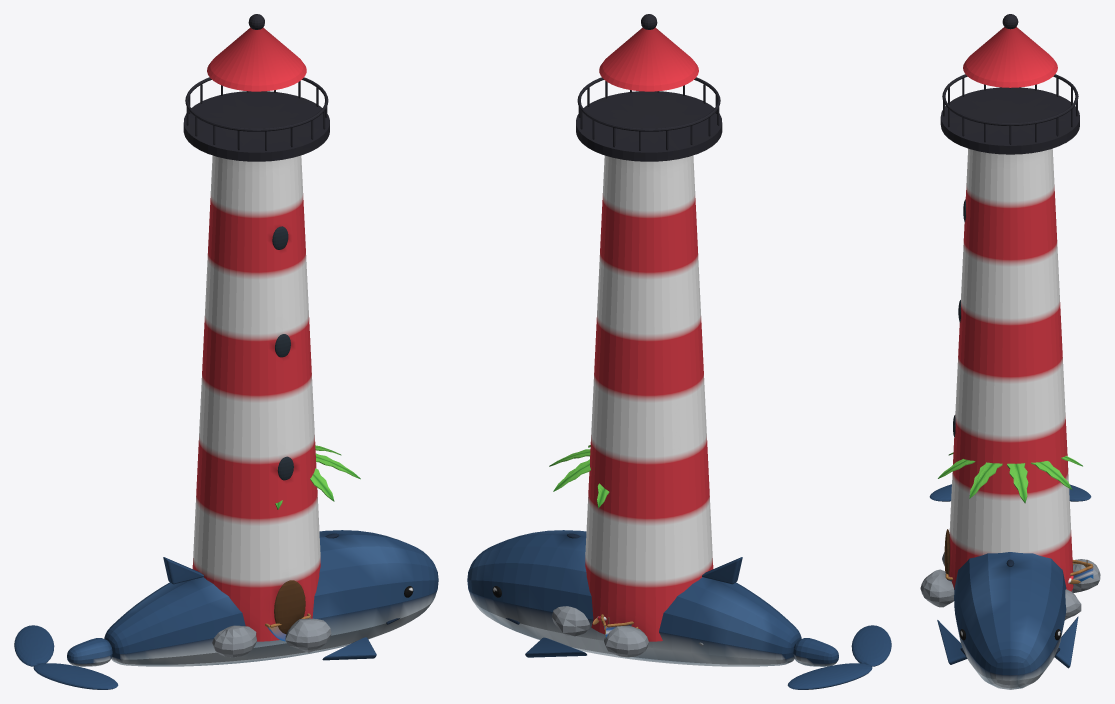
The model's file is hav.glb.
3 views of the same model, side by side, from view 1: azimuth 30°, elevation 25°; view 2: azimuth 150°, elevation 25°; view 3: azimuth 270°, elevation 25° (orthographic). The views are drawn at different scales.
Parts seen in each view (by area): view 1: tårn, hvalkrop, galleri, lygtetag, haleflig1.001, haleflig-1, dør, fyrsten1, fyrsten2, halerod, rækværk, luffe1; view 2: tårn, hvalkrop, galleri, lygtetag, haleflig-1, haleflig1.001, fyrsten4, halerod, rækværk, fyrsten5, luffe-1; view 3: tårn, hvalkrop, galleri, lygtetag, fyrsten1, rækværk, luffe1, luffe-1, palmeblad0, fyrsten4, palmeblad7, palmeblad1 (+1 smaller).
Boxes of the visible parts, x1,y1,x2,y2 form: tårn: (192, 155, 320, 641); hvalkrop: (104, 530, 438, 666); galleri: (183, 91, 329, 161); lygtetag: (207, 27, 306, 91); haleflig1.001: (33, 663, 118, 689); haleflig-1: (14, 625, 54, 666); dør: (274, 580, 305, 634); fyrsten1: (285, 618, 331, 652); fyrsten2: (212, 625, 256, 657); halerod: (67, 638, 112, 666); rækværk: (185, 77, 328, 131); luffe1: (322, 637, 376, 660); tårn: (585, 155, 713, 641); hvalkrop: (467, 530, 801, 666); galleri: (576, 91, 722, 161); lygtetag: (599, 27, 698, 91); haleflig-1: (787, 663, 872, 689); haleflig1.001: (851, 625, 891, 666); fyrsten4: (604, 626, 648, 657); halerod: (793, 638, 838, 666); rækværk: (577, 77, 720, 131); fyrsten5: (552, 606, 589, 636); luffe-1: (525, 637, 586, 657); tårn: (949, 148, 1073, 591); hvalkrop: (954, 552, 1066, 689); galleri: (940, 87, 1079, 154); lygtetag: (963, 27, 1057, 87); fyrsten1: (920, 569, 954, 607); rækværk: (942, 74, 1078, 125); luffe1: (937, 620, 967, 664); luffe-1: (1054, 616, 1078, 668); palmeblad0: (1007, 463, 1028, 503); fyrsten4: (1071, 559, 1100, 592); palmeblad7: (969, 462, 1002, 498); palmeblad1: (1031, 461, 1072, 489).
Size of the model in its own units: 13.96 by 21.39 by 5.69.
